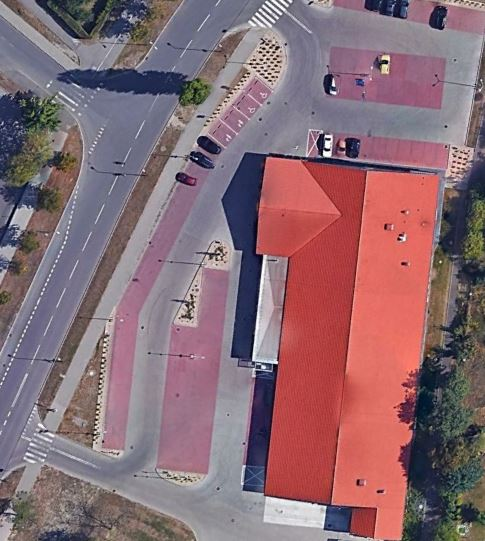shopping_center: (235, 150, 449, 541)
